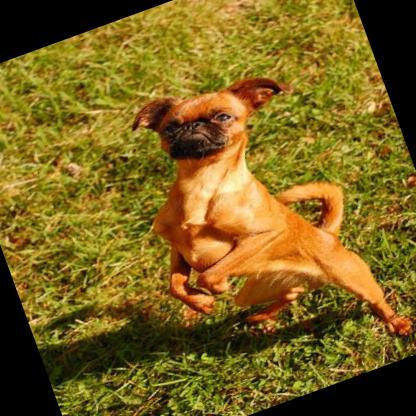Brabancon_griffon: (106, 41, 416, 410)
